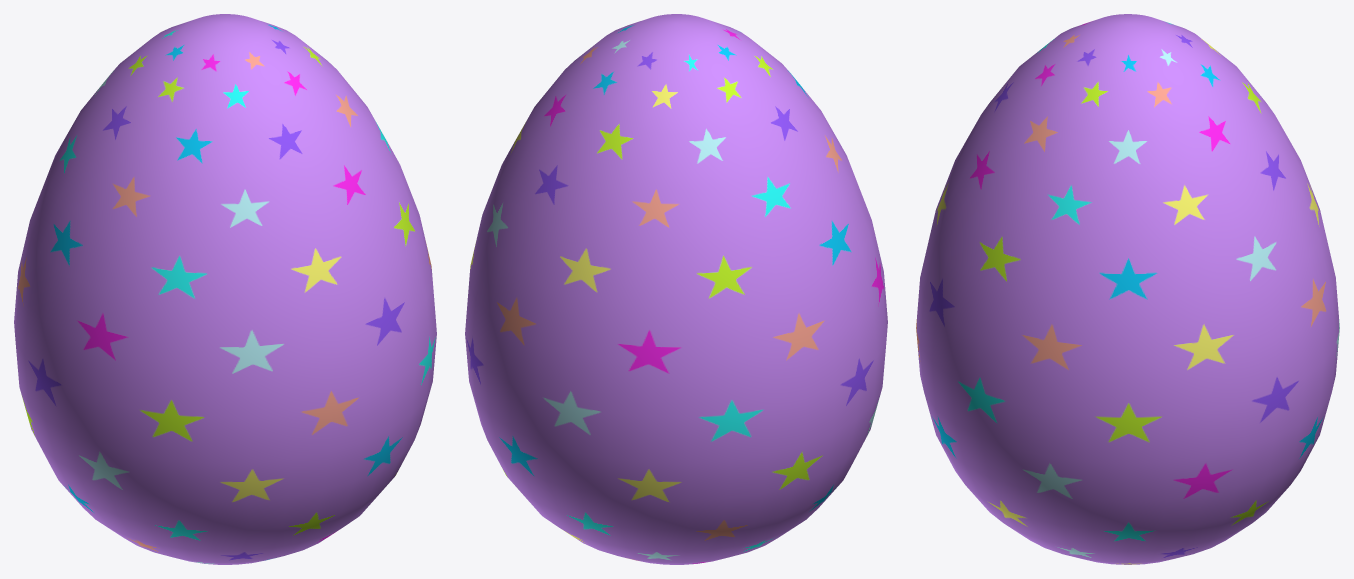
The model's file is egg01.dae.
The picture shows the model from 3 angles, left to right: view 1: azimuth 30°, elevation 25°; view 2: azimuth 150°, elevation 25°; view 3: azimuth 270°, elevation 25°; orthographic projection.
Visible parts, largest first — view 1: Egg01; view 2: Egg01; view 3: Egg01.
Boxes of the visible parts, x1,y1,x2,y2 form: Egg01: (14,14,436,564); Egg01: (465,14,887,564); Egg01: (916,14,1339,564).
Size of the model in its own units: 2 by 2 by 2.72.
2 materials, 2 textured.
